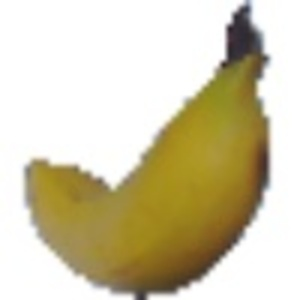banana: (11, 27, 280, 293)
